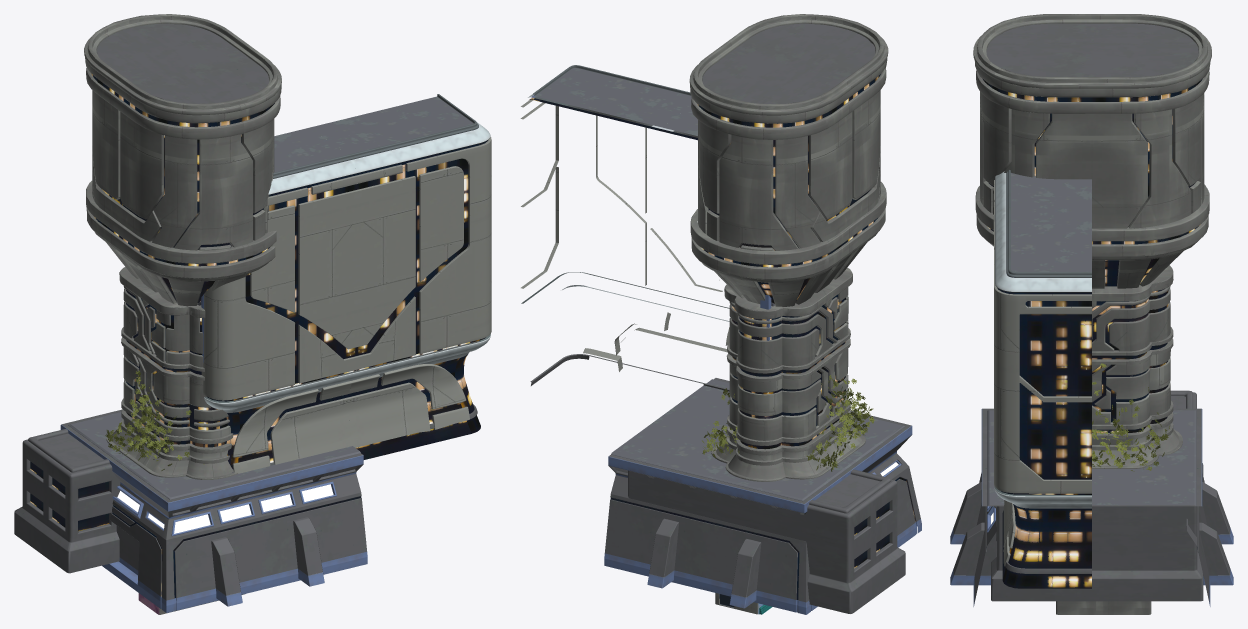
Rendered from city-kit-lite.glb.
3 views of the same model, side by side, from view 1: azimuth 30°, elevation 25°; view 2: azimuth 150°, elevation 25°; view 3: azimuth 270°, elevation 25° (orthographic). The views are drawn at different scales.
Parts seen in each view (by area): view 1: SM_Building03_Top_02, SM_Building_02__lod, SM_Building_02, SM_Building03_Base_01, SM_Building03_Top_01, SM_Building03_Top_01__lod, SM_Building_04__lod, SM_Building_04, SM_Tree1, SM_Building03_Base_02; view 2: SM_Building_02__lod, SM_Building_02, SM_Building03_Base_02, SM_Building_04__lod, SM_Building03_Top_02, SM_Building03_Base_01, SM_Tree1, SM_Building_04, SM_Building03_Top_01; view 3: SM_Building_02__lod, SM_Building03_Top_02, SM_Building_02, SM_Building_04__lod, SM_Building03_Base_02, SM_Building03_Base_01, SM_Building03_Top_01, SM_Building_04, SM_Noodle_Base, SM_Tree1, SM_Tree2.
Boxes of the visible parts, left/top/right/bottom form: SM_Building03_Top_02: left=310, top=94, right=491, bottom=459; SM_Building_02__lod: left=84, top=14, right=281, bottom=479; SM_Building_02: left=84, top=14, right=281, bottom=479; SM_Building03_Base_01: left=108, top=446, right=367, bottom=612; SM_Building03_Top_01: left=201, top=127, right=357, bottom=473; SM_Building03_Top_01__lod: left=200, top=154, right=357, bottom=473; SM_Building_04__lod: left=14, top=430, right=337, bottom=573; SM_Building_04: left=14, top=429, right=254, bottom=572; SM_Tree1: left=105, top=370, right=204, bottom=470; SM_Building03_Base_02: left=60, top=409, right=128, bottom=570; SM_Building_02__lod: left=689, top=14, right=888, bottom=481; SM_Building_02: left=689, top=14, right=888, bottom=481; SM_Building03_Base_02: left=604, top=416, right=858, bottom=614; SM_Building_04__lod: left=628, top=469, right=905, bottom=613; SM_Building03_Top_02: left=520, top=65, right=709, bottom=385; SM_Building03_Base_01: left=662, top=378, right=921, bottom=547; SM_Tree1: left=702, top=375, right=874, bottom=471; SM_Building_04: left=628, top=469, right=905, bottom=613; SM_Building03_Top_01: left=662, top=106, right=729, bottom=391; SM_Building_02__lod: left=973, top=14, right=1211, bottom=468; SM_Building03_Top_02: left=994, top=208, right=1091, bottom=588; SM_Building_02: left=973, top=14, right=1211, bottom=468; SM_Building_04__lod: left=991, top=390, right=1203, bottom=601; SM_Building03_Base_02: left=1092, top=408, right=1233, bottom=606; SM_Building03_Base_01: left=950, top=408, right=1004, bottom=606; SM_Building03_Top_01: left=994, top=170, right=1091, bottom=517; SM_Building_04: left=991, top=391, right=1202, bottom=601; SM_Noodle_Base: left=1056, top=601, right=1151, bottom=614; SM_Tree1: left=1092, top=363, right=1169, bottom=471; SM_Tree2: left=1092, top=419, right=1138, bottom=461.
Size of the model in its own units: 31.18 by 41.28 by 19.43.
32 materials, 29 textured.
